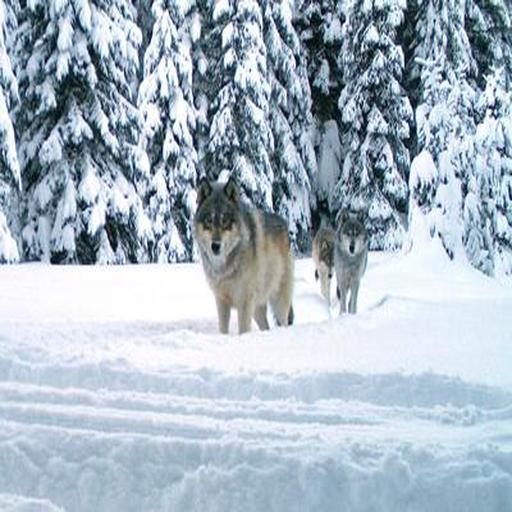Wolf: (192, 169, 301, 335), (312, 210, 376, 319)
